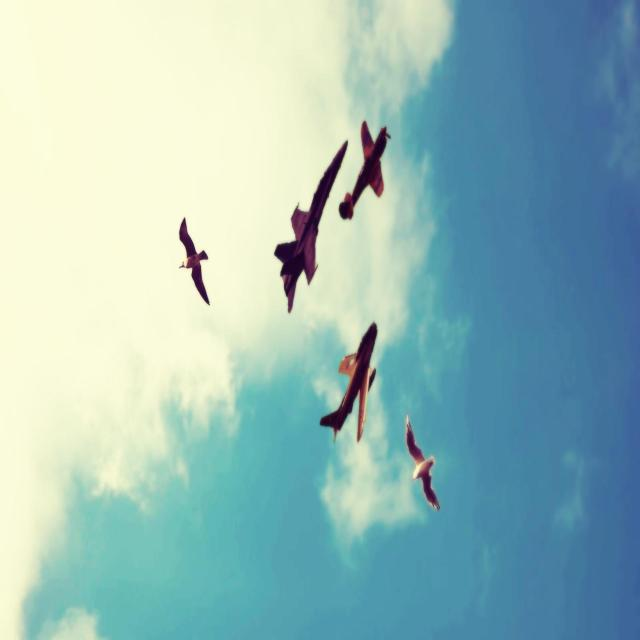airplane: (274, 138, 348, 314), (319, 321, 378, 443), (338, 119, 391, 221)
